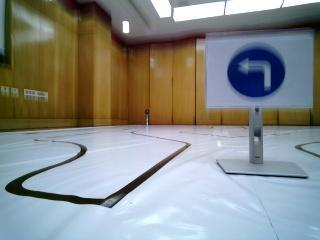left: (209, 45, 303, 99)
